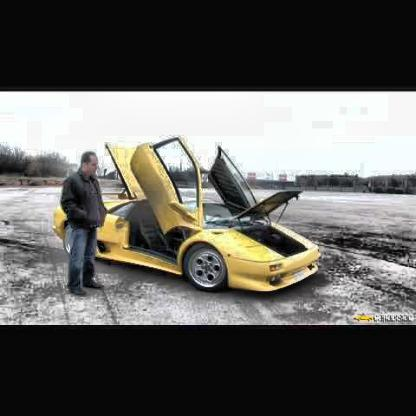Lamborghini Diablo Coupe 2001: (42, 124, 330, 306)
